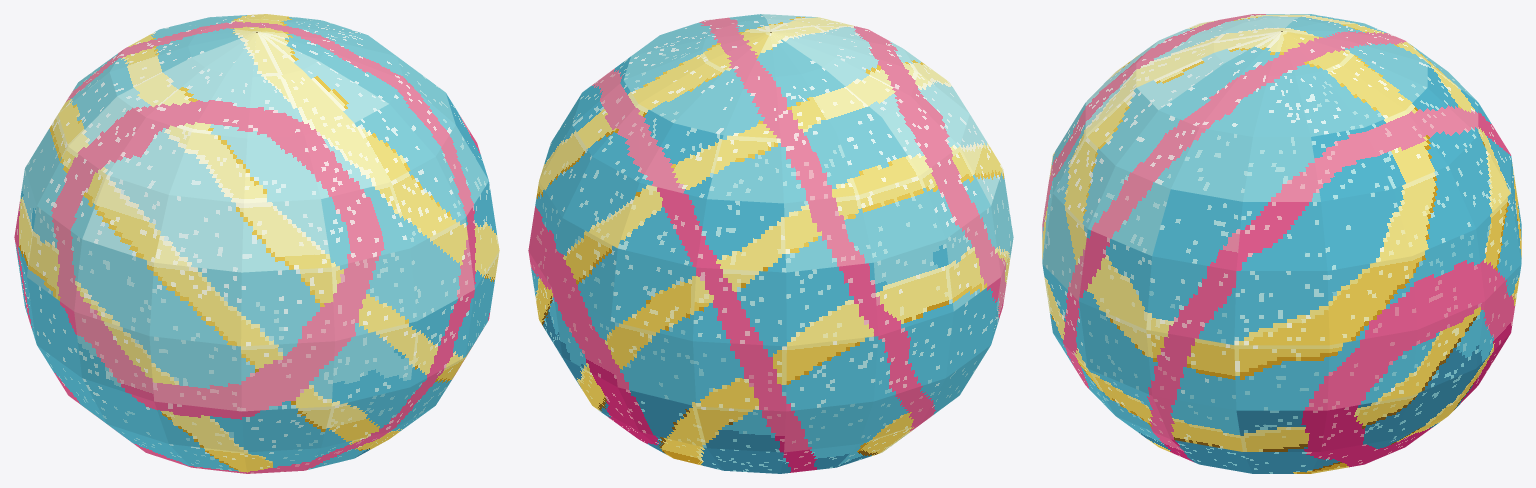
File: superball.glb
3 renders of one model, left to right at view 1: azimuth 30°, elevation 25°; view 2: azimuth 150°, elevation 25°; view 3: azimuth 270°, elevation 25°, orthographic.
Visible parts, largest first — view 1: ball; view 2: ball; view 3: ball.
Boxes of the visible parts, <box> form: ball: <box>14,14,499,473</box>; ball: <box>528,14,1013,473</box>; ball: <box>1042,14,1521,473</box>.
Size of the model in its own units: 25.51 by 25 by 25.51.
Materials: 1 (1 with a texture image).
